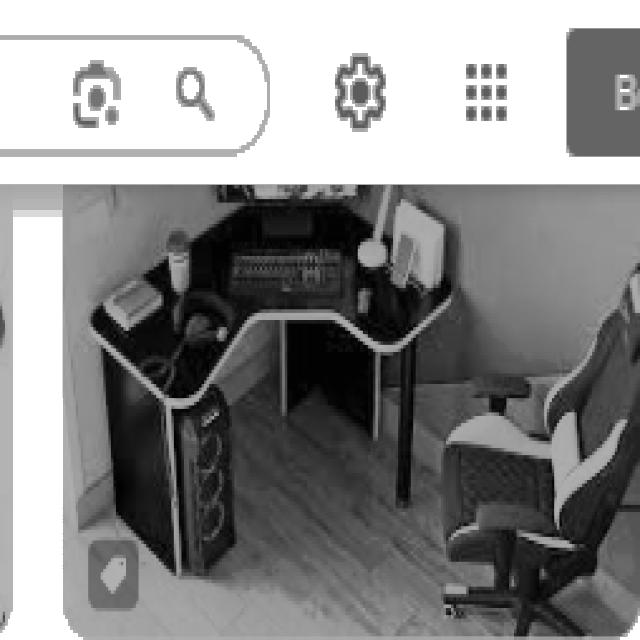book: (438, 256, 638, 636)
table: (88, 196, 454, 576)
